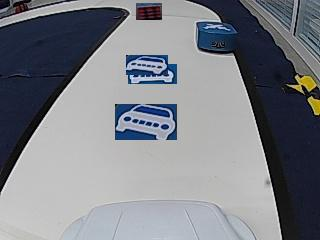prop: (196, 21, 237, 54)
